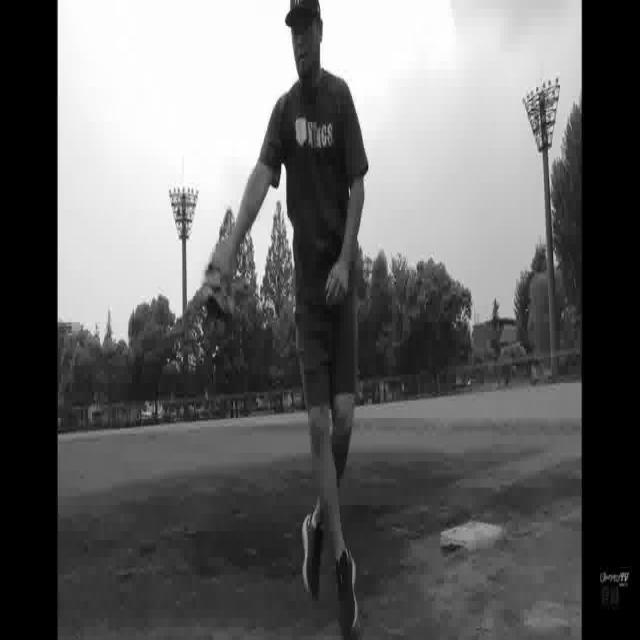base: (438, 524, 506, 556)
baseball_glove: (205, 234, 238, 330)
shoe: (334, 544, 360, 635), (301, 512, 324, 602)
